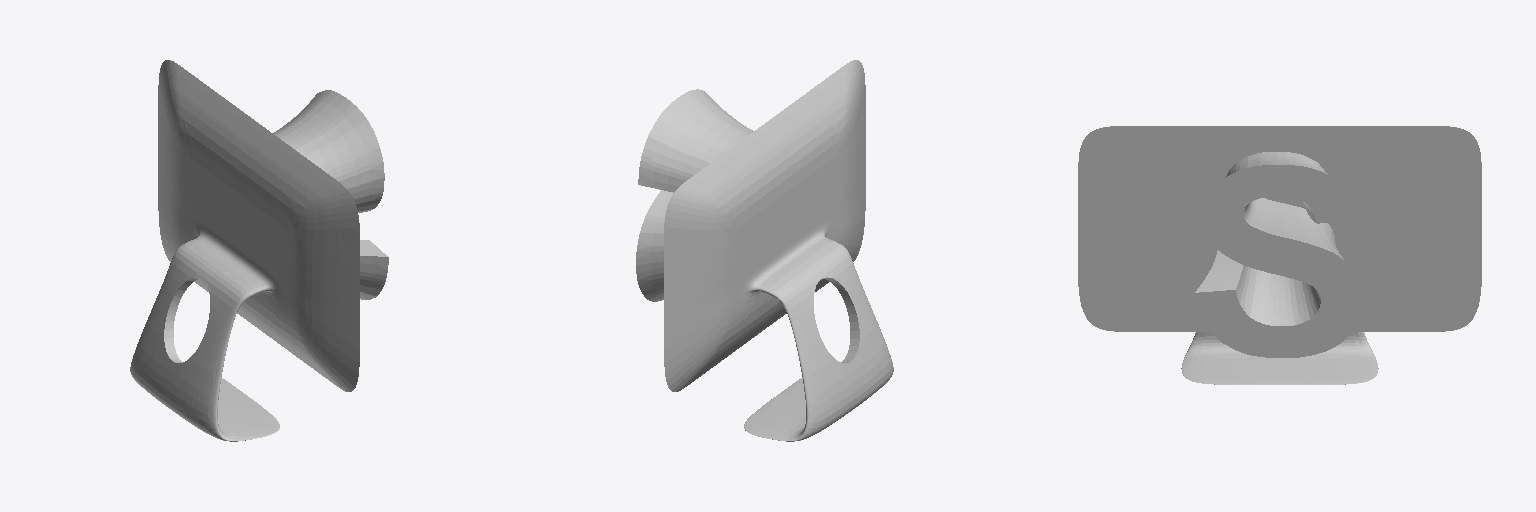
The picture shows the model from 3 angles: view 1: azimuth 30°, elevation 25°; view 2: azimuth 150°, elevation 25°; view 3: azimuth 270°, elevation 25°; orthographic projection.
Parts seen in each view (by area): view 1: Body1, Body4; view 2: Body1, Body4; view 3: Body1, Body4.
Part boxes in pixels (bbox=[...]): Body1: bbox=[130, 60, 359, 441]; Body4: bbox=[273, 90, 388, 299]; Body1: bbox=[664, 60, 893, 441]; Body4: bbox=[636, 89, 753, 301]; Body1: bbox=[1078, 126, 1481, 384]; Body4: bbox=[1195, 152, 1362, 357].
Size of the model in its own units: 82.97 by 119 by 160.